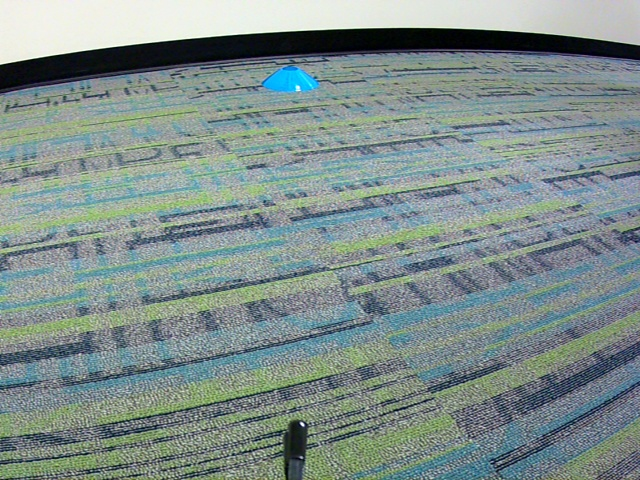cone: (262, 63, 317, 92)
